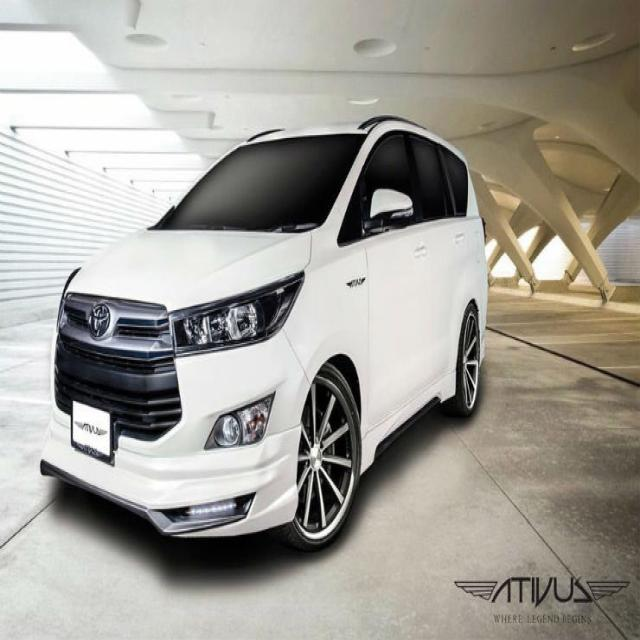light_vehicle: (39, 116, 489, 552)
